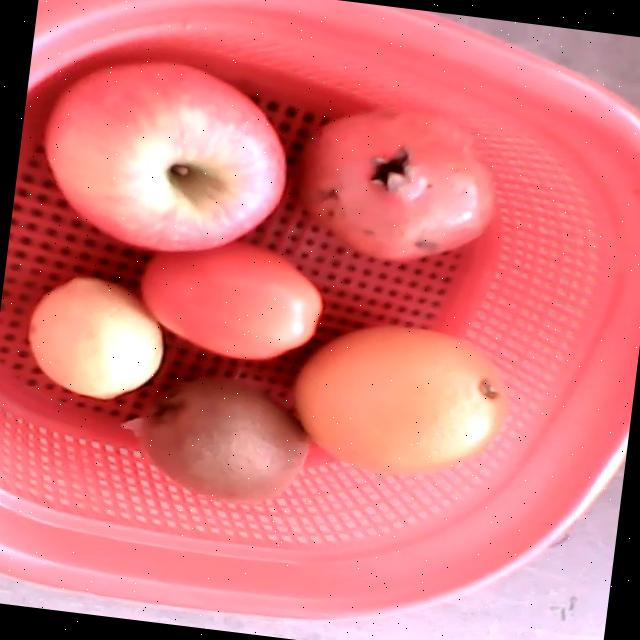apple: (42, 61, 284, 252)
kiwi: (146, 378, 305, 503)
lemon: (28, 275, 162, 400)
orange: (296, 325, 504, 476)
pomegranate: (294, 105, 490, 259)
tomato: (142, 236, 322, 359)
